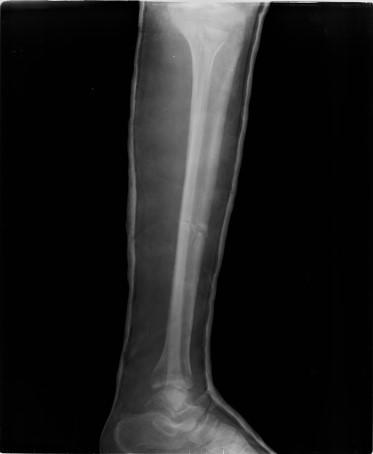fractured: (178, 203, 210, 251)
